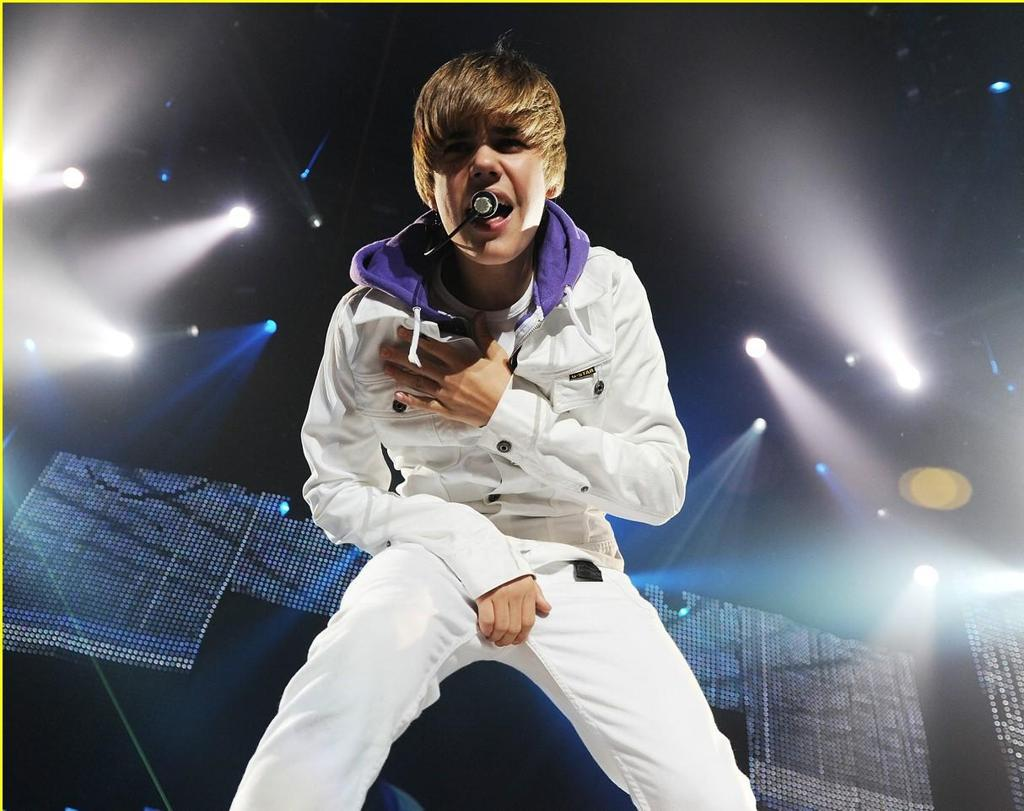face: (433, 95, 543, 261)
